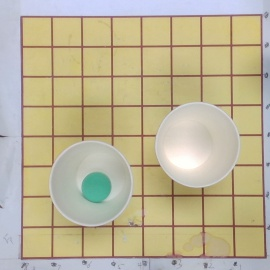cup: (154, 103, 240, 189)
cup_green: (47, 141, 134, 225)
